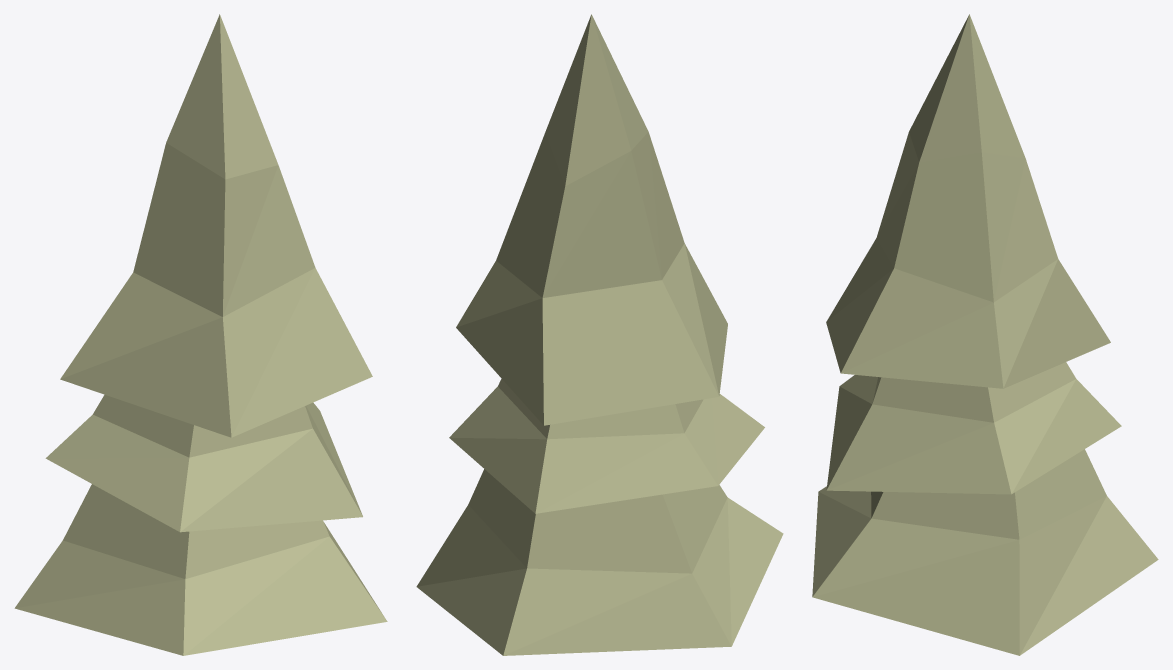
The model's file is norway-spruce.glb.
3 renders of one model, left to right at view 1: azimuth 30°, elevation 25°; view 2: azimuth 150°, elevation 25°; view 3: azimuth 270°, elevation 25°, orthographic. The views are drawn at different scales.
Visible parts, largest first — view 1: Crown; view 2: Crown; view 3: Crown.
Part boxes in pixels (<box>): Crown: <box>14,14,387,655</box>; Crown: <box>416,14,783,655</box>; Crown: <box>812,14,1158,655</box>.
Bounding box in the file's own units: 14.16 × 25.71 × 13.68.
